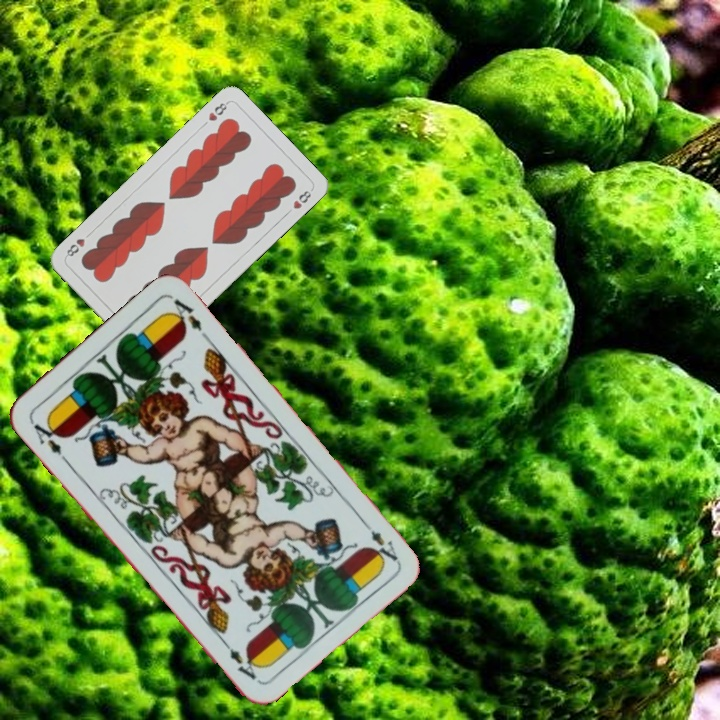EA: (26, 415, 70, 465), (357, 516, 401, 566)
H8: (204, 98, 231, 123)
